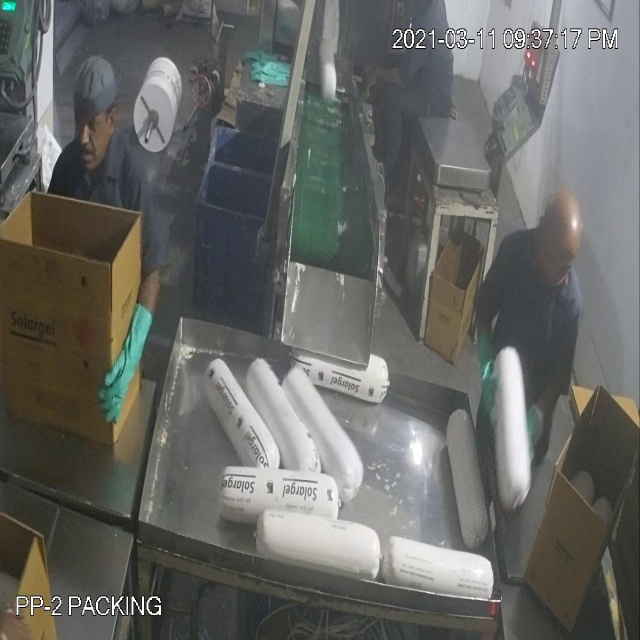Guantes: (99, 294, 151, 434)
Sin_guantes: (360, 57, 415, 98)
